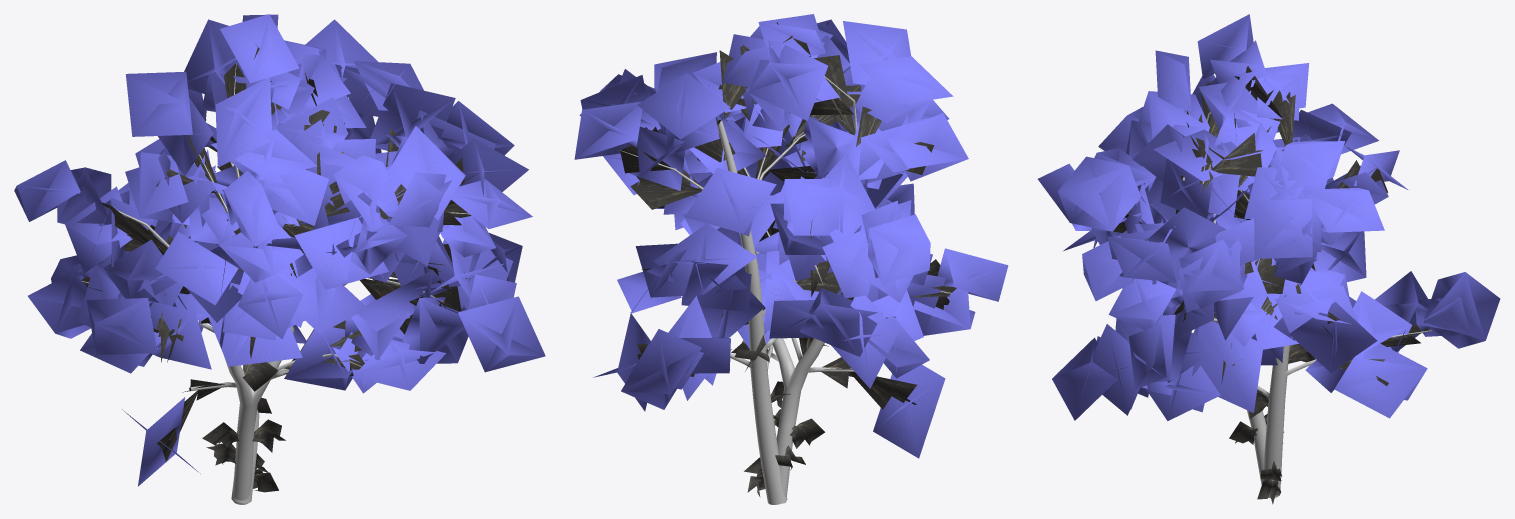
Rendered from Birch_9.fbx.
3 views of the same model, side by side, from view 1: azimuth 30°, elevation 25°; view 2: azimuth 150°, elevation 25°; view 3: azimuth 270°, elevation 25° (orthographic). The views are drawn at different scales.
Visible parts, largest first — view 1: Birch_9; view 2: Birch_9; view 3: Birch_9.
Boxes of the visible parts, x1,y1,x2,y2 form: Birch_9: (14,14,545,504); Birch_9: (574,14,1008,504); Birch_9: (1038,14,1500,504).
Bounding box in the file's own units: 23.1 × 25.58 × 24.34.
